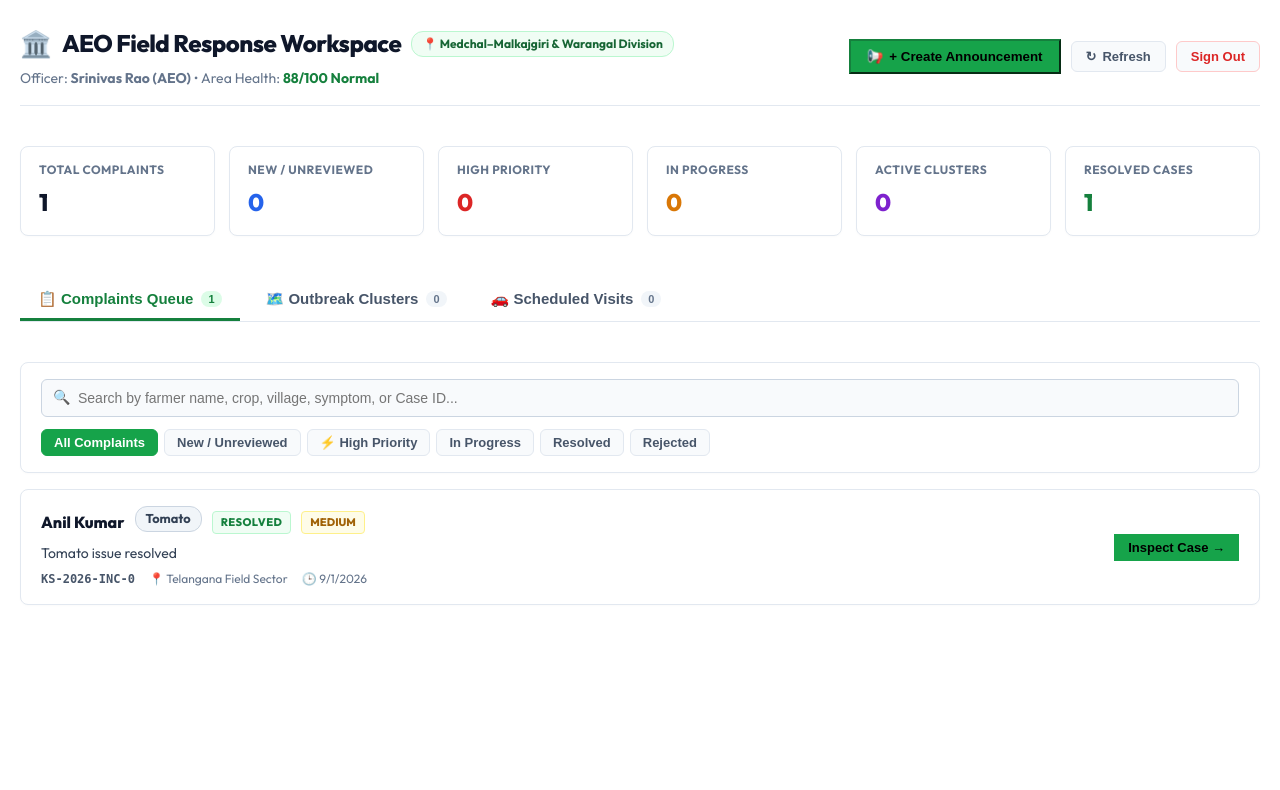
Test: Phase: AEO Officer Workflow Tests › hides Start Work and Reject buttons and renders resolved indicator for RESOLVED incident
Click the button with test id "view-details-btn-inc-003-resolved": (1177, 547) [1114,534,1239,561]
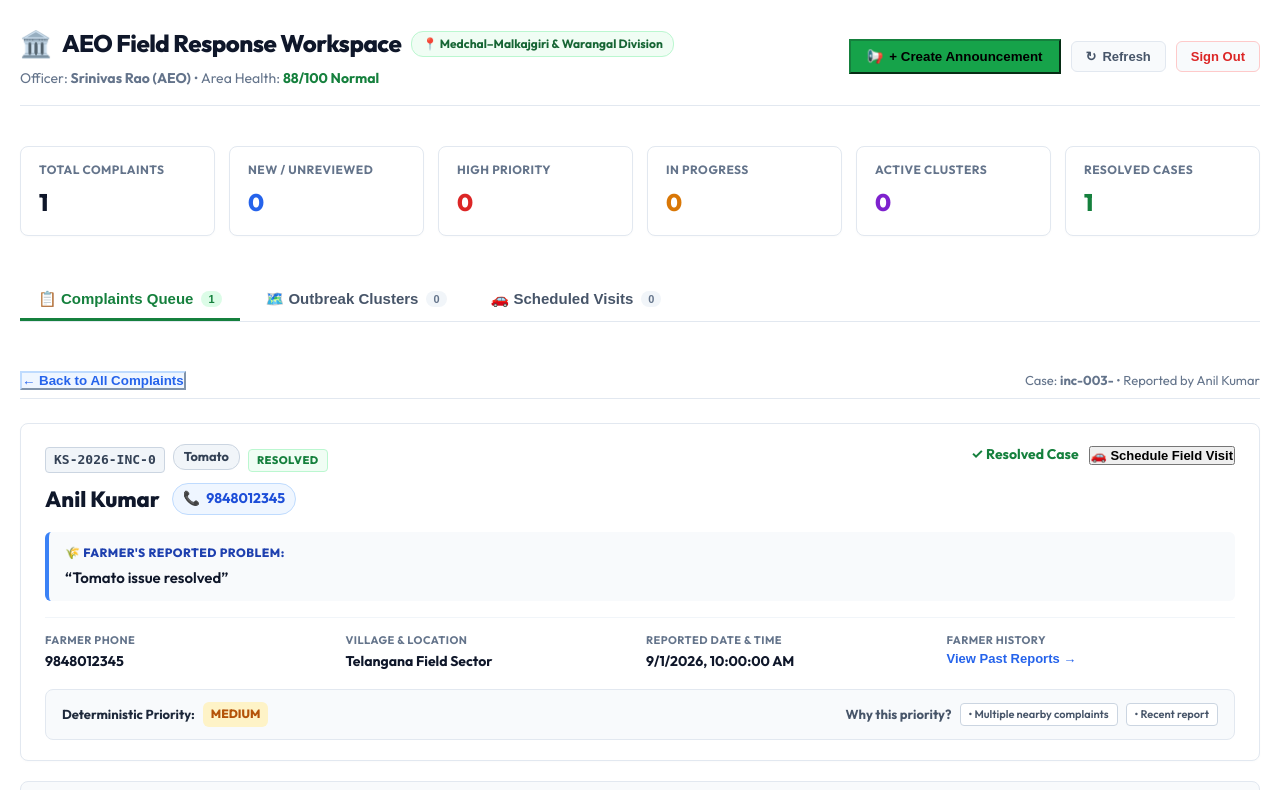
Now the text "✓ Resolved Case" is shown, box [971,444,1079,466]
